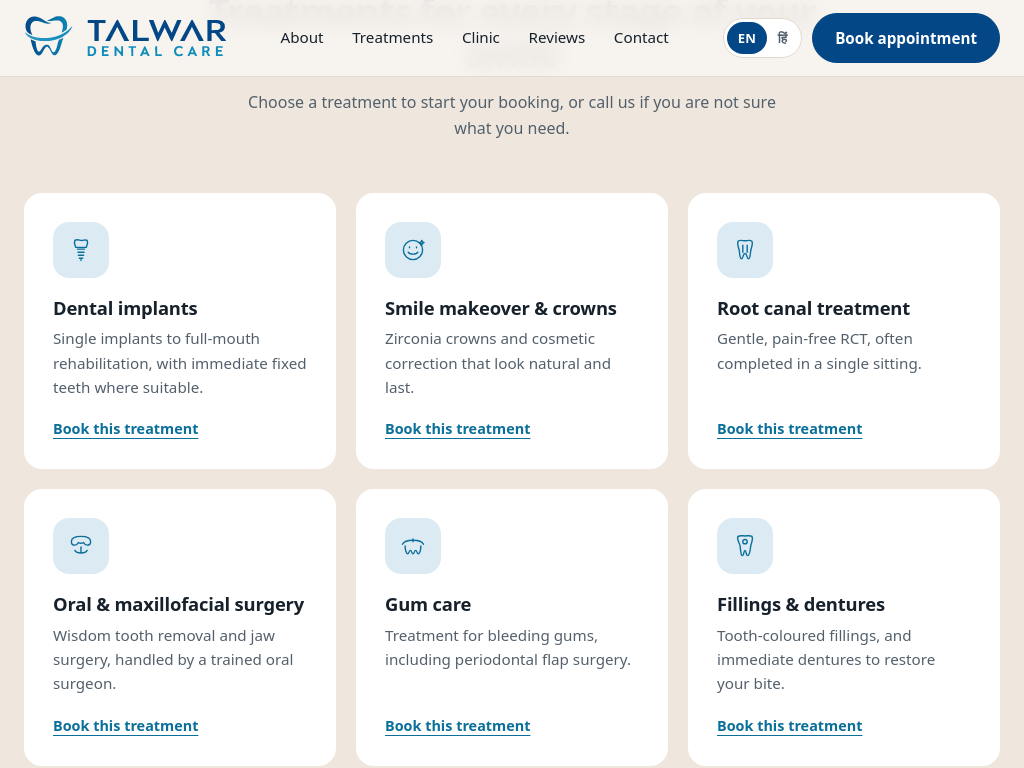
Scenario: <App /> › booking form › pre-selects the treatment when a service card is chosen
(page scrolled)
What coordinates should you click on to do the following:
click the 3rd button "Book this treatment"
I would click on:
 (790, 429)
Its box is [717,417,862,440].
(page scrolled)
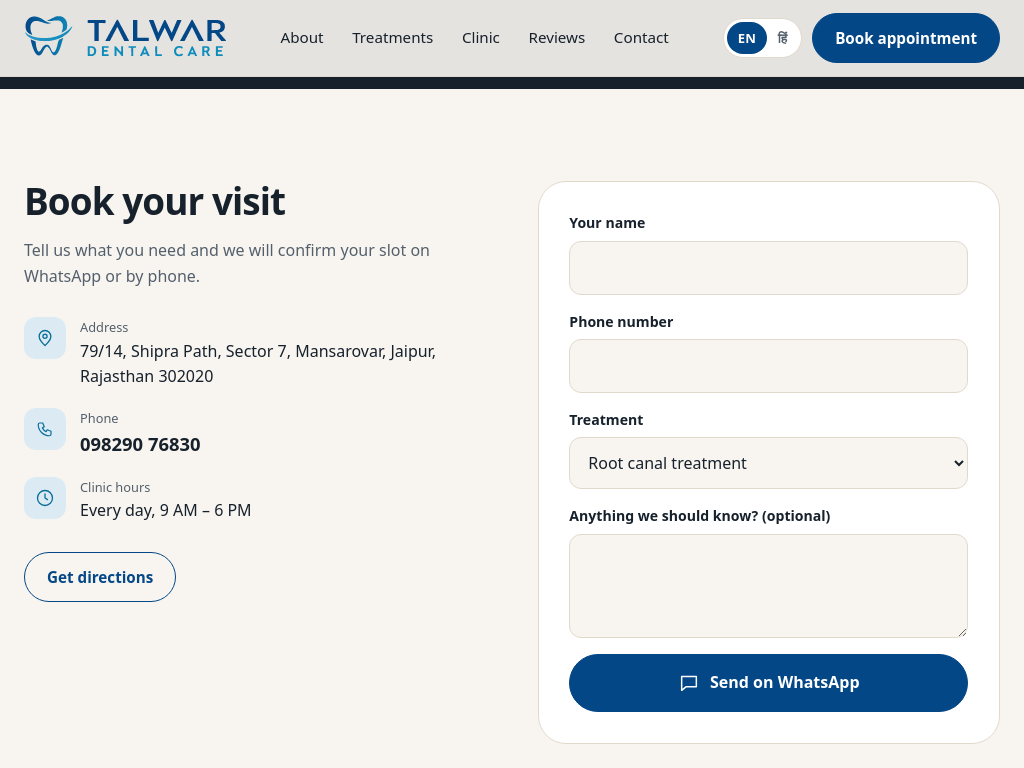
Expected: the dropdown labelled "Treatment" shows "Root canal treatment", [569,437,968,489]
